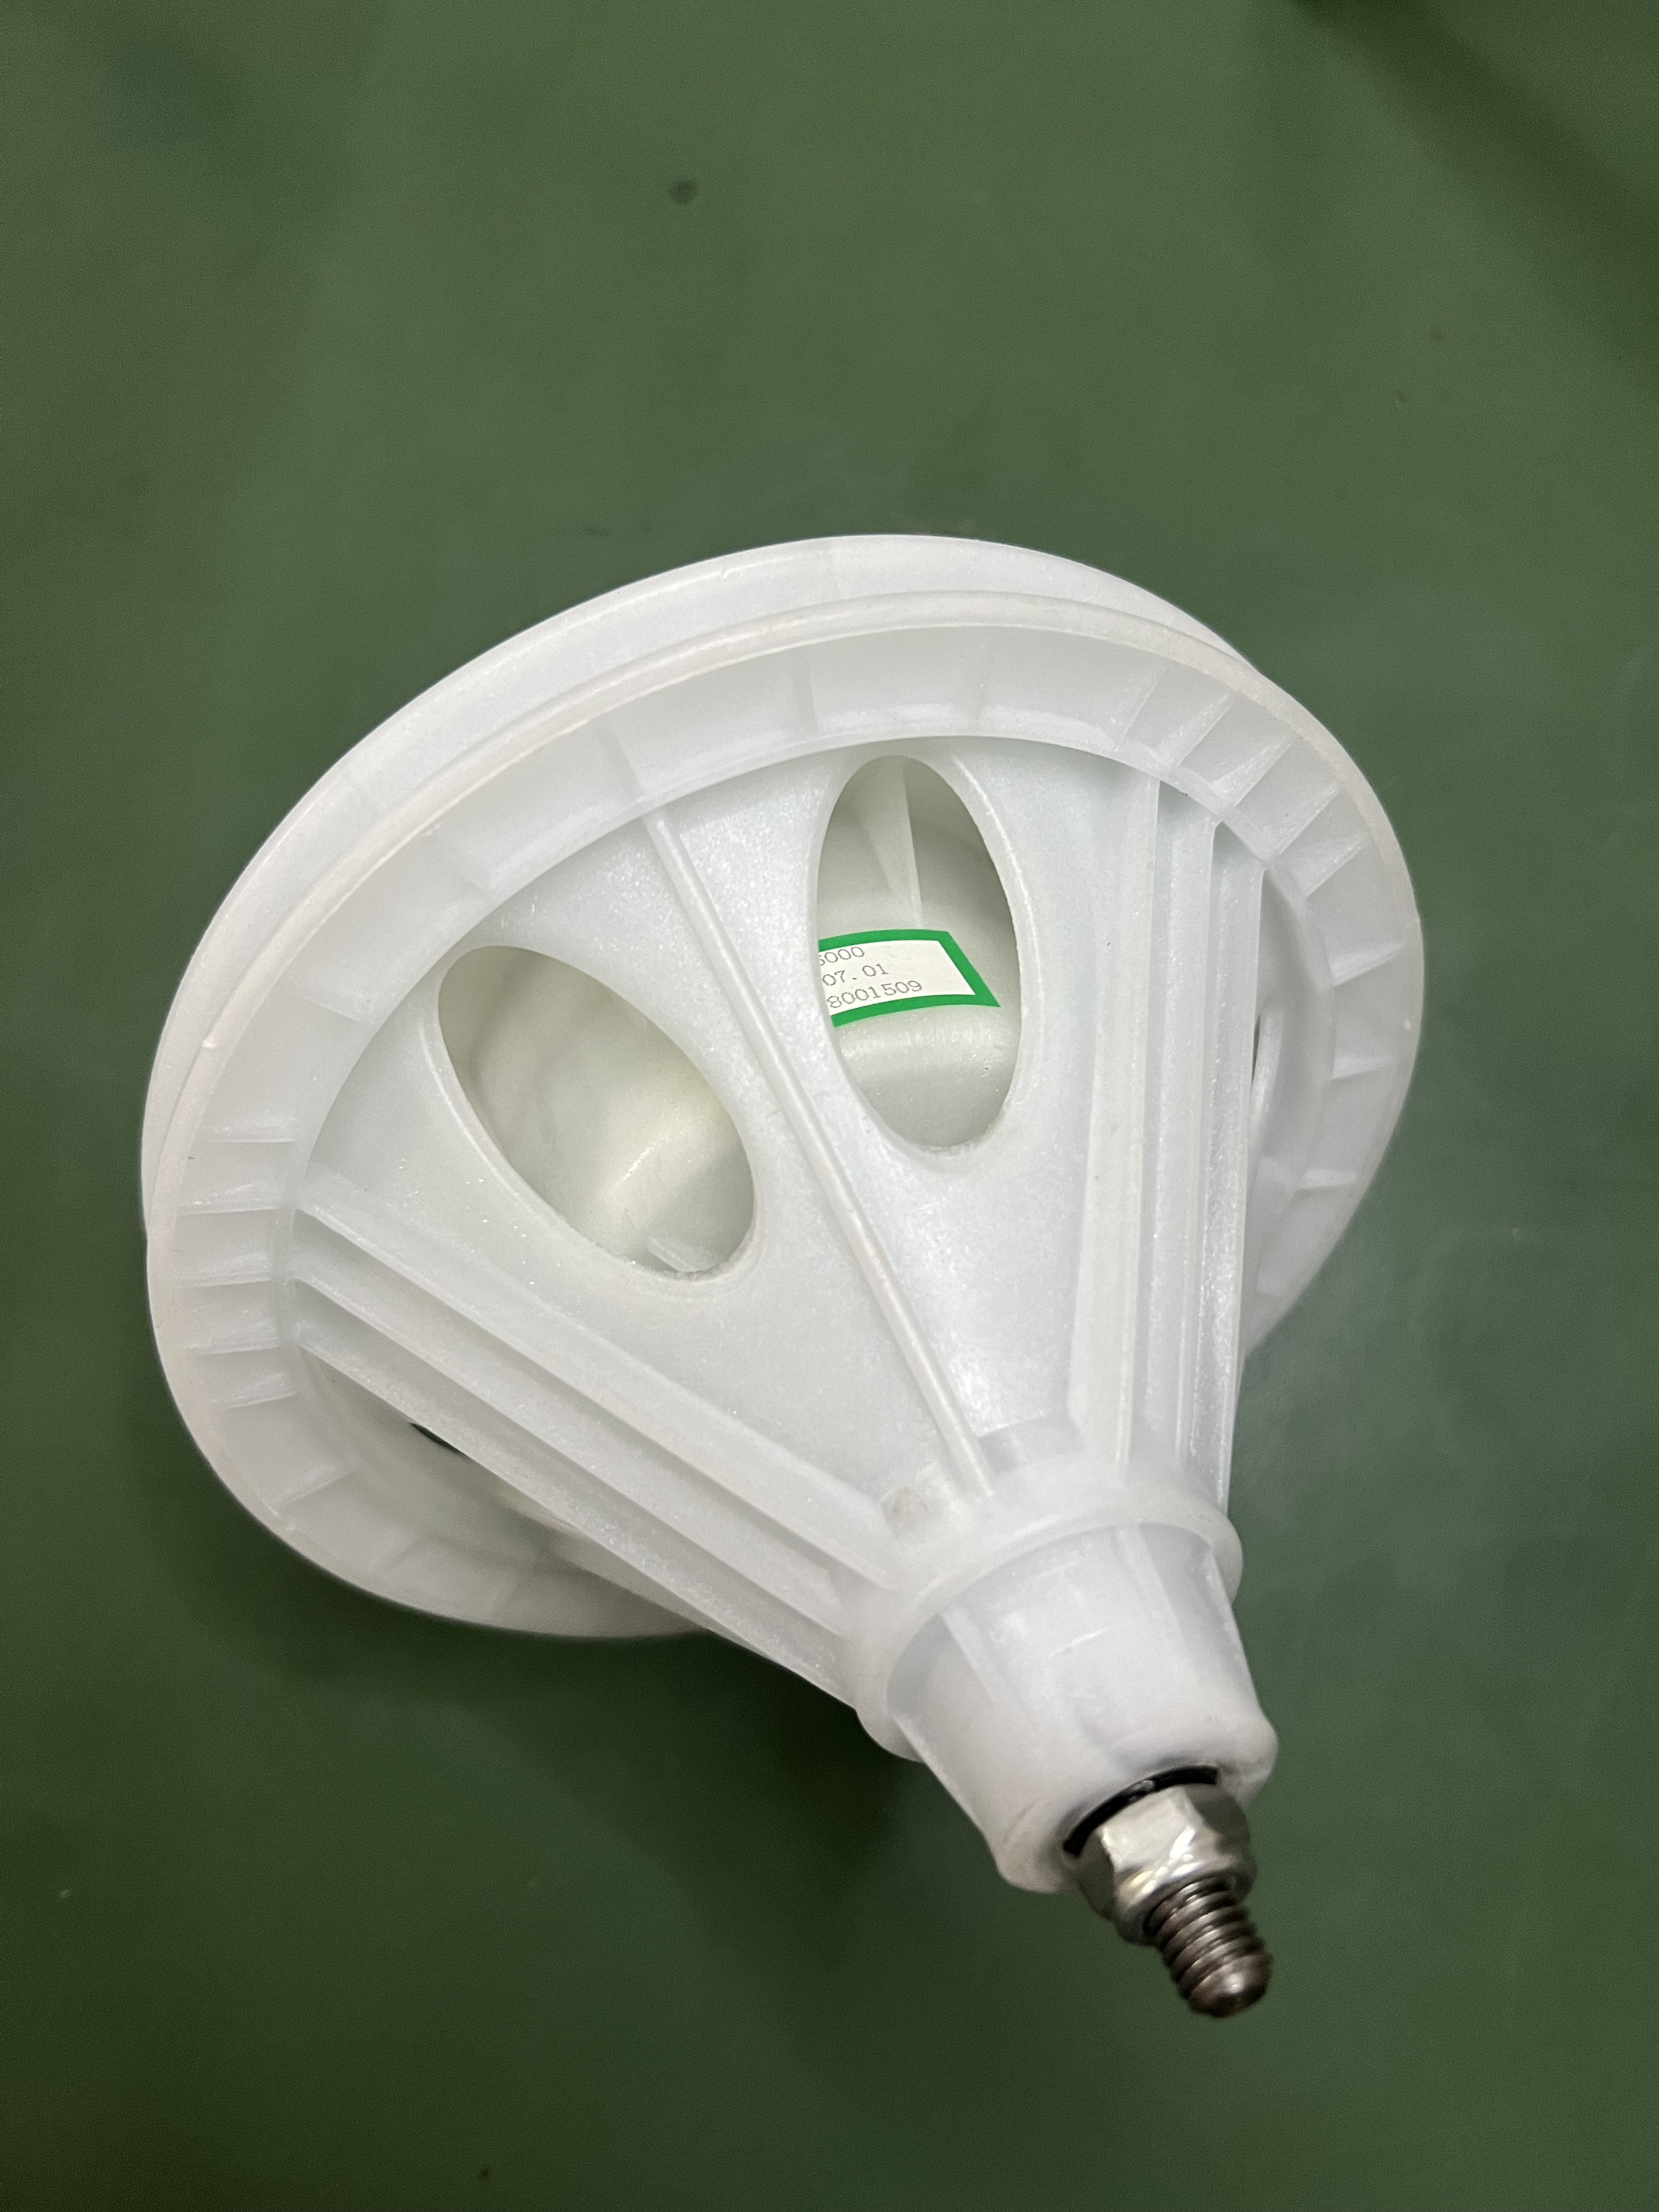gear_box_ovul: (103, 521, 1455, 2005)
